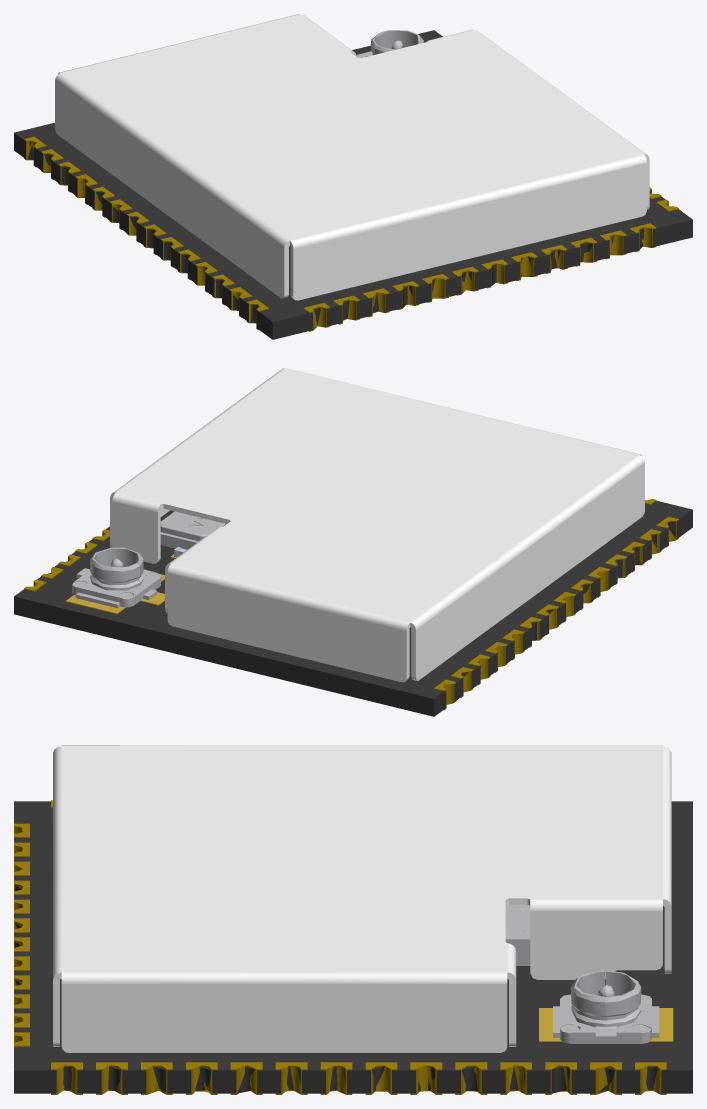
The model's file is esp-esp32-s2-solo-u.glb.
3 renders of one model, top to bottom at view 1: azimuth 30°, elevation 25°; view 2: azimuth 150°, elevation 25°; view 3: azimuth 270°, elevation 25°, orthographic. The views are drawn at different scales.
Parts seen in each view (by area): view 1: 1_1_1_0.85, 0_0_0_0, 0.4166666666666667_0.25_0_0, 0.5833333333333334_0.5833333333333334_0.5833333333333334_0.8; view 2: 1_1_1_0.85, 0_0_0_0, 0.5833333333333334_0.5833333333333334_0.5833333333333334_0.8, 0.4166666666666667_0.25_0_0, 0.6666666666666666_0.4166666666666667_0_0; view 3: 1_1_1_0.85, 0_0_0_0, 0.4166666666666667_0.25_0_0, 0.5833333333333334_0.5833333333333334_0.5833333333333334_0.8, 0.6666666666666666_0.4166666666666667_0_0.
Boxes of the visible parts, bbox=[...] form: 1_1_1_0.85: bbox=[55, 14, 649, 300]; 0_0_0_0: bbox=[14, 30, 692, 339]; 0.4166666666666667_0.25_0_0: bbox=[24, 136, 678, 331]; 0.5833333333333334_0.5833333333333334_0.5833333333333334_0.8: bbox=[356, 30, 423, 57]; 1_1_1_0.85: bbox=[110, 368, 644, 682]; 0_0_0_0: bbox=[14, 500, 692, 716]; 0.5833333333333334_0.5833333333333334_0.5833333333333334_0.8: bbox=[72, 511, 226, 608]; 0.4166666666666667_0.25_0_0: bbox=[24, 499, 678, 710]; 0.6666666666666666_0.4166666666666667_0_0: bbox=[65, 554, 176, 614]; 1_1_1_0.85: bbox=[53, 745, 671, 1052]; 0_0_0_0: bbox=[14, 801, 692, 1093]; 0.4166666666666667_0.25_0_0: bbox=[14, 800, 666, 1094]; 0.5833333333333334_0.5833333333333334_0.5833333333333334_0.8: bbox=[505, 904, 659, 1043]; 0.6666666666666666_0.4166666666666667_0_0: bbox=[539, 1008, 673, 1041].
Size of the model in its own units: 1.8 by 0.32 by 1.92.
